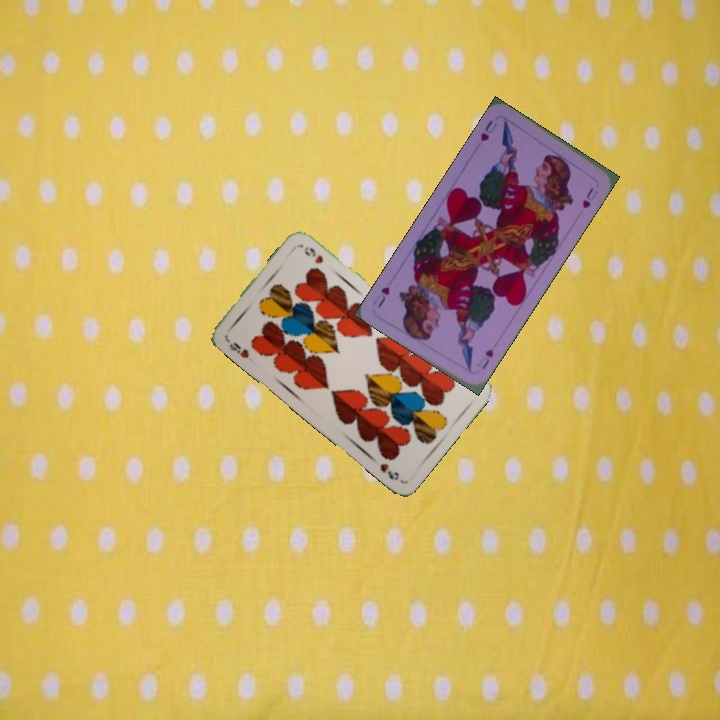H9: (222, 335, 252, 361)
HU: (476, 116, 500, 144), (473, 345, 496, 372)
